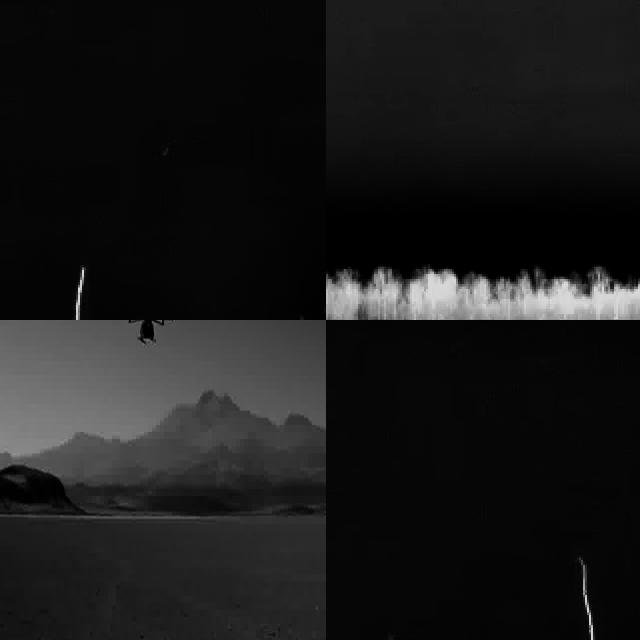0: (151, 139, 175, 171), (377, 628, 399, 640)
drone: (117, 320, 172, 349)
